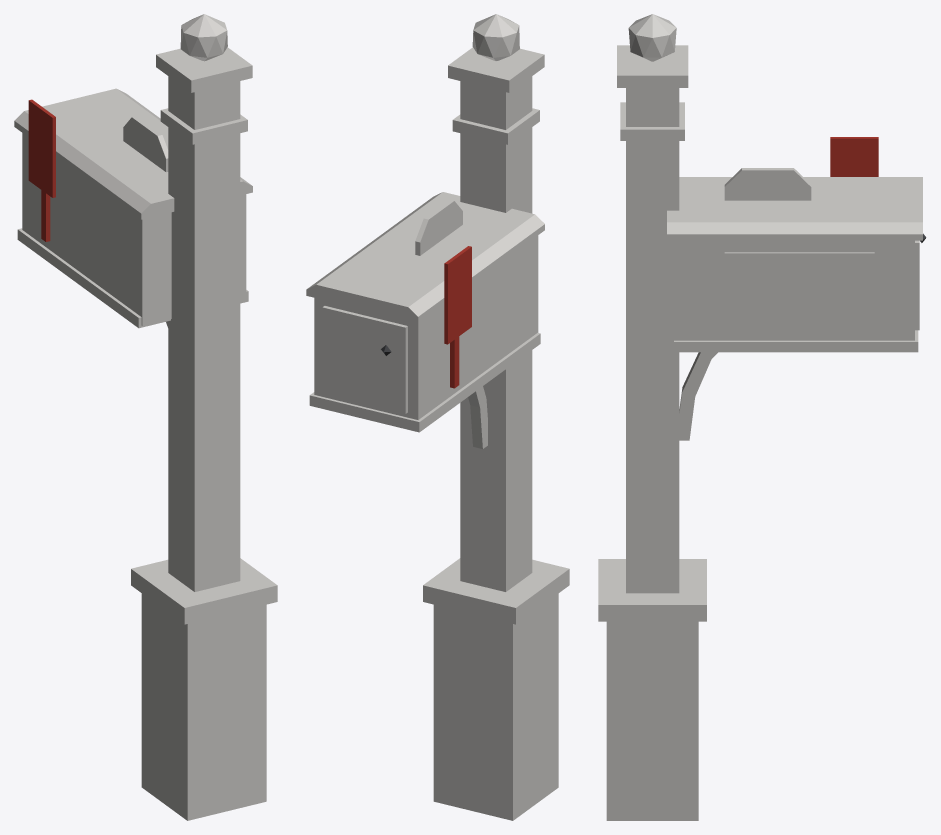
Rendered from mailbox-fancy.glb.
3 views of the same model, side by side, from view 1: azimuth 30°, elevation 25°; view 2: azimuth 150°, elevation 25°; view 3: azimuth 270°, elevation 25° (orthographic).
Visible parts, largest first — view 1: MailboxFancy, Flag; view 2: MailboxFancy, Flag; view 3: MailboxFancy, Flag.
Part boxes in pixels (bbox=[...]): MailboxFancy: bbox=[14, 14, 277, 820]; Flag: bbox=[28, 99, 55, 241]; MailboxFancy: bbox=[306, 14, 569, 820]; Flag: bbox=[444, 246, 471, 388]; MailboxFancy: bbox=[598, 14, 926, 820]; Flag: bbox=[830, 137, 878, 176].
Bounding box in the file's own units: 0.2415 × 1.51 × 0.569.
